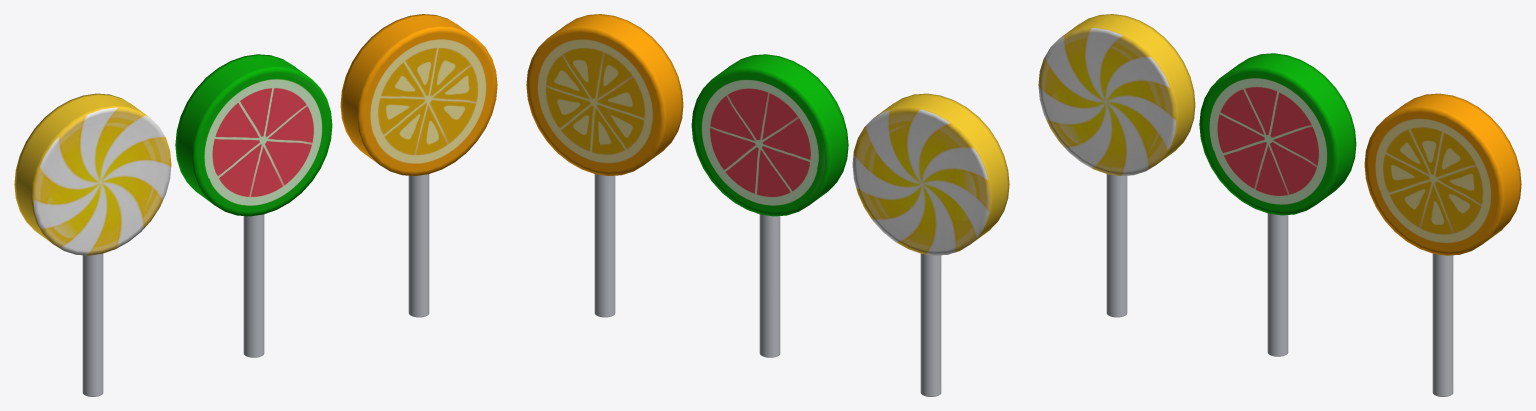
File: lollipop.fbx
3 renders of one model, left to right at view 1: azimuth 30°, elevation 25°; view 2: azimuth 150°, elevation 25°; view 3: azimuth 330°, elevation 25°, orthographic.
Parts seen in each view (by area): view 1: Lollipop_Lollipop #1_0, Lollipop_Lollipop_0, Lollipop_Lollipop #2_0, Stick_Stick #1_0, Stick_Stick_0, Stick_Stick #2_0; view 2: Lollipop_Lollipop #1_0, Lollipop_Lollipop_0, Lollipop_Lollipop #2_0, Stick_Stick #1_0, Stick_Stick_0, Stick_Stick #2_0; view 3: Lollipop_Lollipop #2_0, Lollipop_Lollipop_0, Lollipop_Lollipop #1_0, Stick_Stick #1_0, Stick_Stick_0, Stick_Stick #2_0.
Boxes of the visible parts, x1=… form: Lollipop_Lollipop #1_0: x1=175, y1=54, x2=332, y2=216; Lollipop_Lollipop_0: x1=14, y1=93, x2=171, y2=255; Lollipop_Lollipop #2_0: x1=340, y1=14, x2=497, y2=175; Stick_Stick #1_0: x1=243, y1=214, x2=264, y2=357; Stick_Stick_0: x1=82, y1=254, x2=103, y2=396; Stick_Stick #2_0: x1=408, y1=174, x2=429, y2=317; Lollipop_Lollipop #1_0: x1=691, y1=54, x2=848, y2=216; Lollipop_Lollipop_0: x1=852, y1=93, x2=1009, y2=255; Lollipop_Lollipop #2_0: x1=526, y1=14, x2=683, y2=175; Stick_Stick #1_0: x1=759, y1=214, x2=780, y2=357; Stick_Stick_0: x1=920, y1=254, x2=941, y2=396; Stick_Stick #2_0: x1=594, y1=174, x2=615, y2=317; Lollipop_Lollipop #2_0: x1=1364, y1=93, x2=1521, y2=255; Lollipop_Lollipop_0: x1=1038, y1=14, x2=1195, y2=175; Lollipop_Lollipop #1_0: x1=1199, y1=53, x2=1356, y2=215; Stick_Stick #1_0: x1=1267, y1=213, x2=1288, y2=356; Stick_Stick_0: x1=1106, y1=174, x2=1127, y2=317; Stick_Stick #2_0: x1=1432, y1=254, x2=1453, y2=396.
Size of the model in its own units: 611 by 365 by 43.27.
